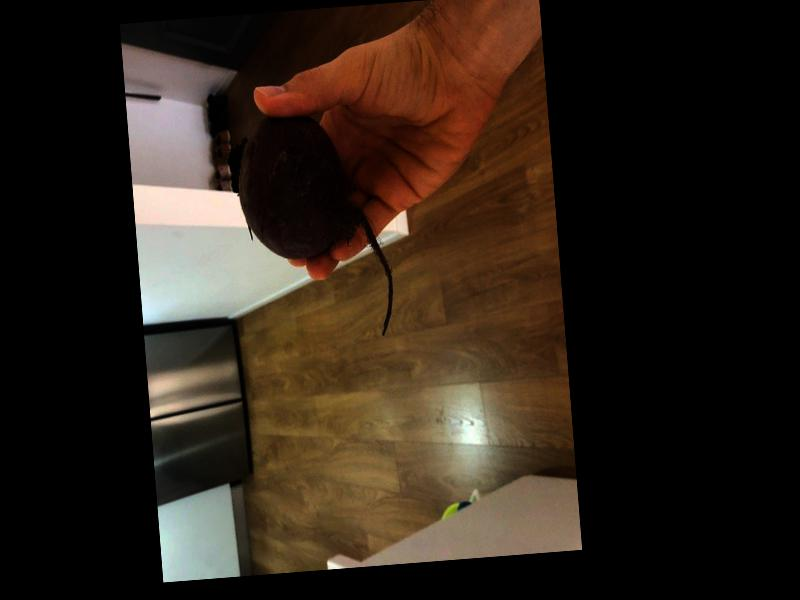Beet: (226, 108, 396, 346)
